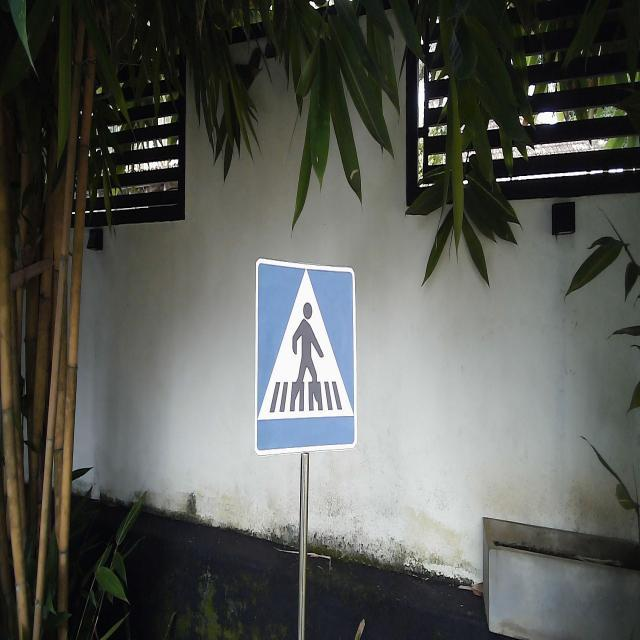crosswalk_sign: (252, 256, 359, 459)
